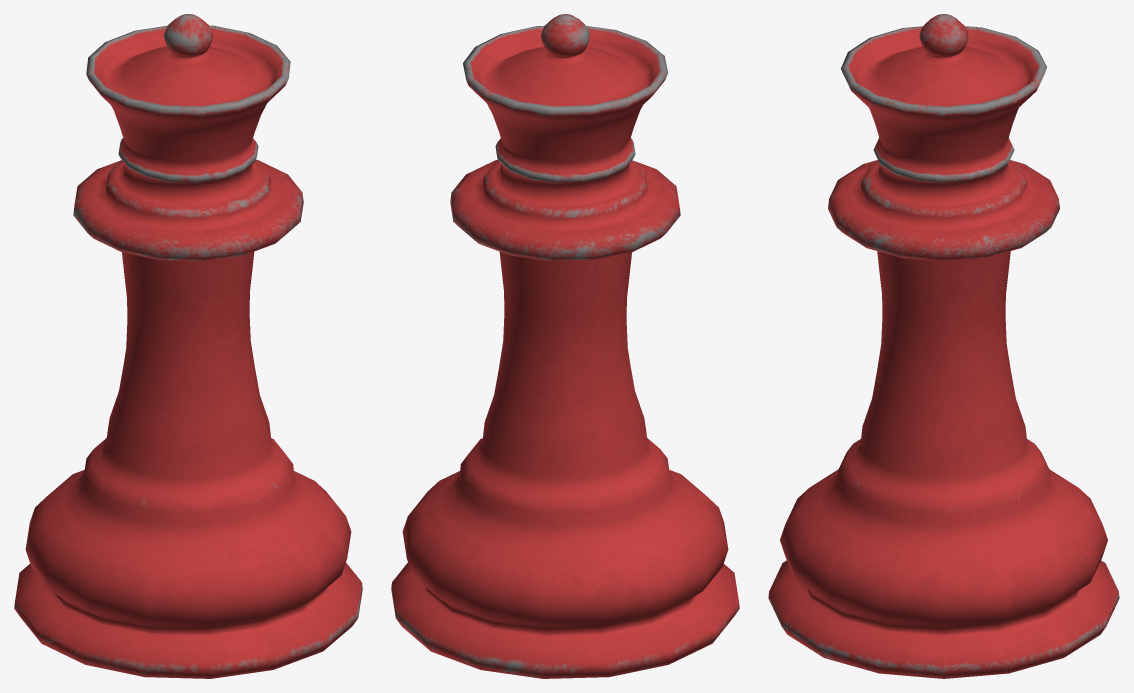
File: queen.glb
3 renders of one model, left to right at view 1: azimuth 30°, elevation 25°; view 2: azimuth 150°, elevation 25°; view 3: azimuth 270°, elevation 25°, orthographic.
Visible parts, largest first — view 1: queen.b.001; view 2: queen.b.001; view 3: queen.b.001.
Part boxes in pixels (x1,y1,x2,y2): queen.b.001: [14, 14, 362, 678]; queen.b.001: [391, 14, 739, 678]; queen.b.001: [768, 14, 1119, 678].
Bounding box in the file's own units: 1.46 × 2.78 × 1.46.
1 material, 1 textured.
